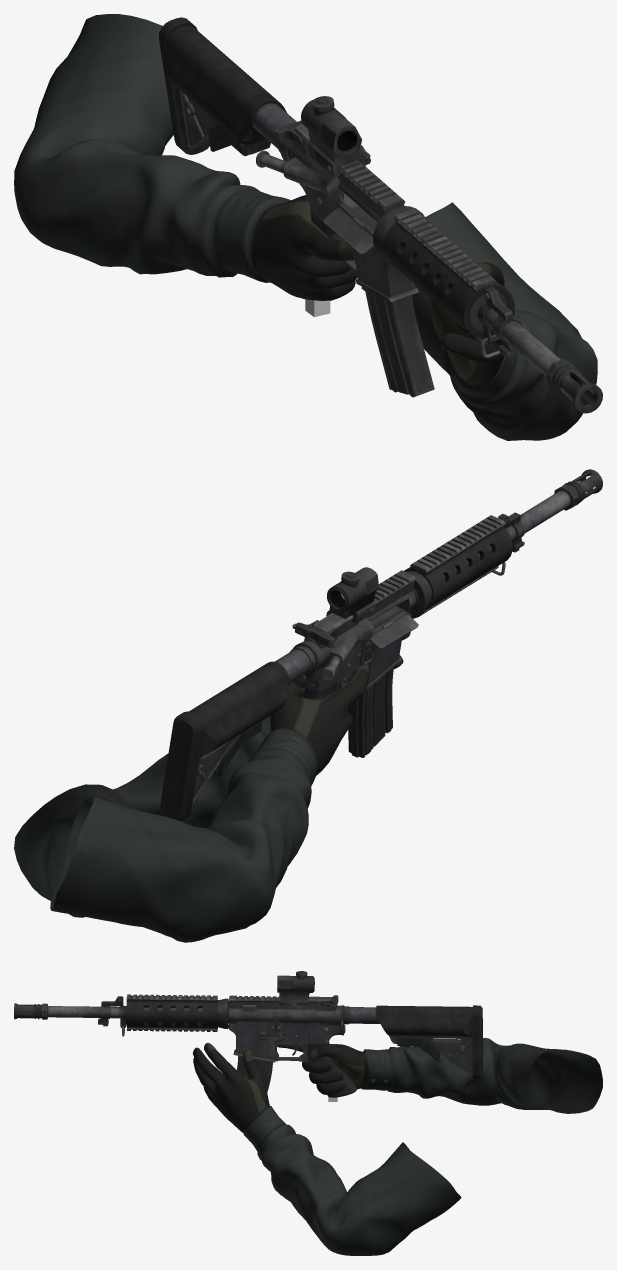
File: gun_000040.obj
3 renders of one model, top to bottom at view 1: azimuth 30°, elevation 25°; view 2: azimuth 150°, elevation 25°; view 3: azimuth 270°, elevation 25°, orthographic. The views are drawn at different scales.
Parts seen in each view (by area): view 1: armmesh_arms_0, base_carbine_0, clip_carbine_0, scope_carbine_0, lid_carbine_0; view 2: armmesh_arms_0, base_carbine_0, clip_carbine_0, scope_carbine_0, lid_carbine_0; view 3: armmesh_arms_0, base_carbine_0, scope_carbine_0, clip_carbine_0.
Boxes of the visible parts, x1=… form: armmesh_arms_0: x1=14, y1=14, x2=597, y2=440; base_carbine_0: x1=159, y1=17, x2=602, y2=413; clip_carbine_0: x1=365, y1=288, x2=434, y2=397; scope_carbine_0: x1=301, y1=96, x2=370, y2=176; lid_carbine_0: x1=323, y1=207, x2=373, y2=254; armmesh_arms_0: x1=14, y1=632, x2=410, y2=942; base_carbine_0: x1=160, y1=469, x2=602, y2=821; clip_carbine_0: x1=348, y1=667, x2=393, y2=757; scope_carbine_0: x1=326, y1=567, x2=379, y2=623; lid_carbine_0: x1=369, y1=614, x2=418, y2=649; armmesh_arms_0: x1=192, y1=1038, x2=602, y2=1255; base_carbine_0: x1=14, y1=994, x2=482, y2=1097; scope_carbine_0: x1=277, y1=971, x2=314, y2=1006; clip_carbine_0: x1=237, y1=1056, x2=272, y2=1092.
Bounding box in the file's own units: 51.91 × 51.88 × 127.
